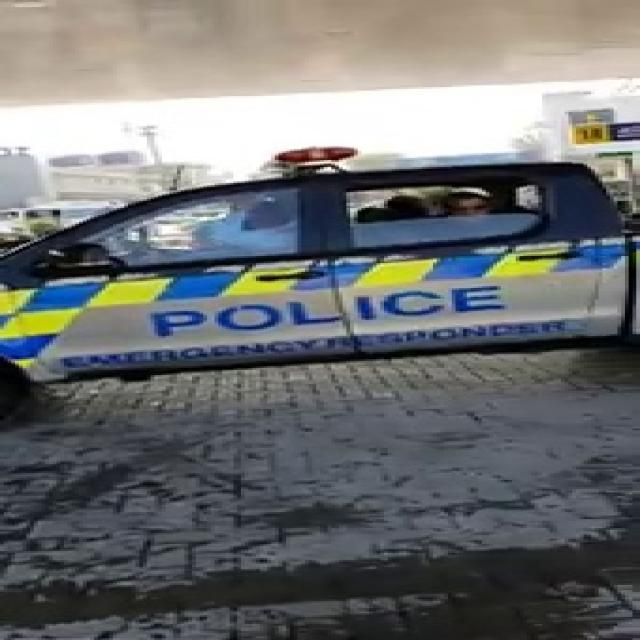police: (14, 156, 640, 408)
